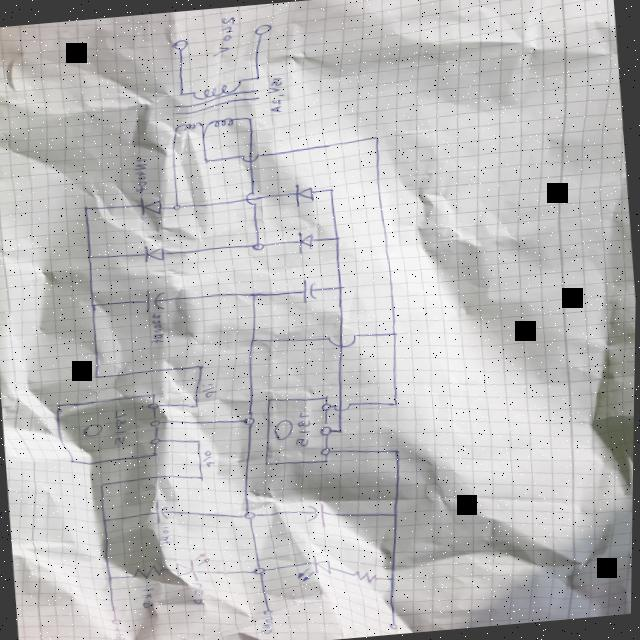capacitor: (141, 288, 168, 314), (304, 502, 328, 530), (152, 497, 171, 526), (299, 278, 319, 304)
crossover: (325, 332, 360, 349), (242, 190, 260, 206), (239, 152, 260, 164), (332, 402, 351, 412)
diode: (295, 552, 334, 582), (174, 552, 213, 582), (291, 180, 317, 208), (293, 228, 319, 254), (135, 195, 163, 217), (140, 242, 168, 264)
junction: (241, 510, 258, 521), (251, 565, 268, 576), (250, 241, 265, 252), (242, 416, 257, 426), (170, 202, 181, 210), (386, 574, 397, 582), (335, 284, 345, 292), (390, 510, 400, 518), (389, 330, 399, 337), (332, 234, 340, 242), (81, 204, 89, 212), (101, 516, 109, 524), (248, 336, 256, 344), (84, 253, 93, 260), (249, 291, 258, 298), (201, 157, 209, 164), (326, 186, 334, 193), (106, 574, 114, 581), (390, 400, 398, 407), (393, 448, 401, 455), (371, 134, 379, 141), (197, 474, 205, 481), (89, 302, 97, 308), (194, 438, 202, 444), (192, 402, 200, 408), (337, 428, 345, 434), (92, 374, 100, 379), (196, 364, 204, 369), (99, 482, 105, 486)
resistor: (132, 562, 167, 581), (353, 568, 380, 584)
terminal: (251, 22, 272, 36), (169, 37, 189, 51), (110, 616, 123, 626), (263, 608, 275, 616), (388, 622, 399, 630)
text: (209, 15, 237, 58), (292, 408, 314, 453), (264, 76, 287, 116), (110, 408, 133, 446), (130, 156, 152, 194), (147, 312, 167, 344), (139, 586, 158, 609), (190, 580, 207, 605), (199, 380, 219, 400), (156, 524, 174, 546), (259, 615, 277, 634), (201, 448, 217, 468), (112, 625, 128, 640)
transformer: (166, 74, 264, 137)
